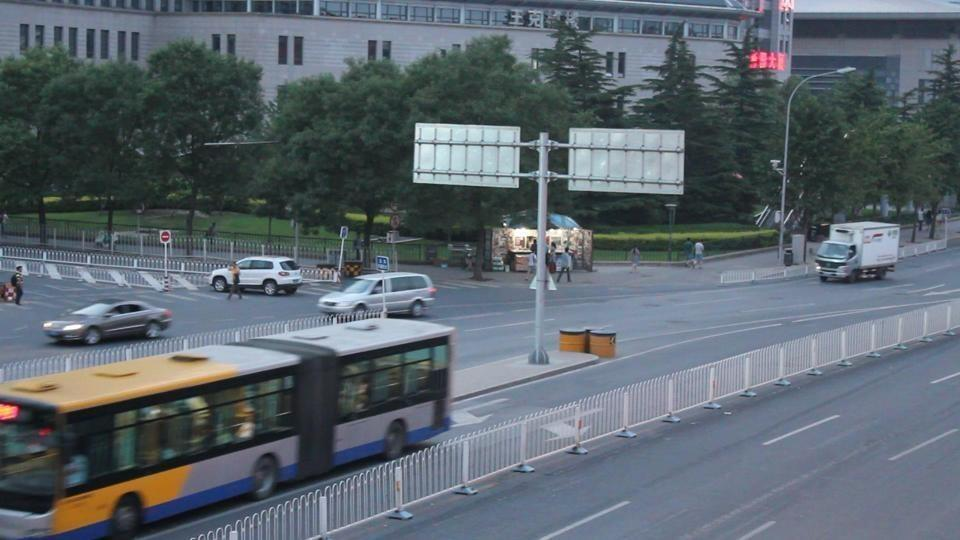car: (41, 300, 174, 346), (318, 272, 437, 320), (208, 257, 304, 296)
